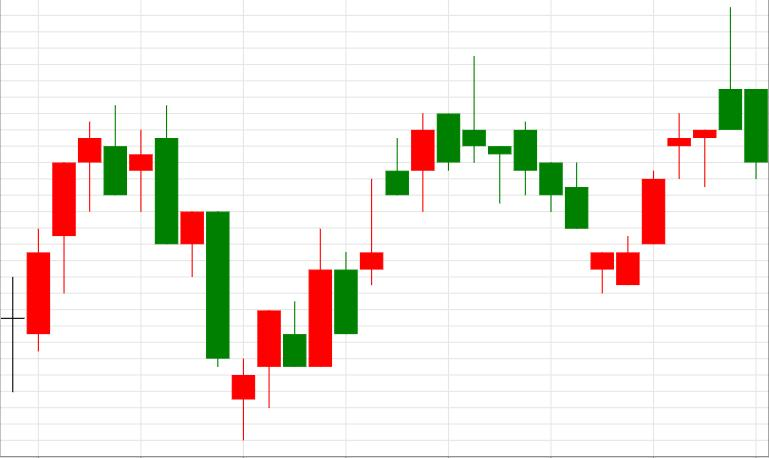shooting_star_fall: (591, 8, 741, 294)
